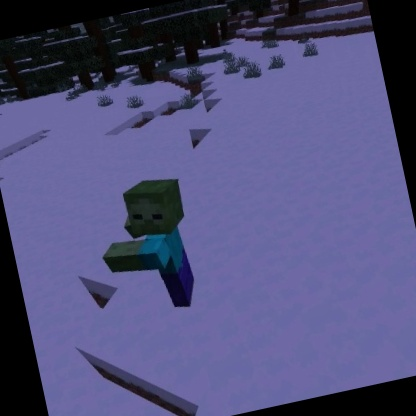zombie: (84, 168, 210, 326)
